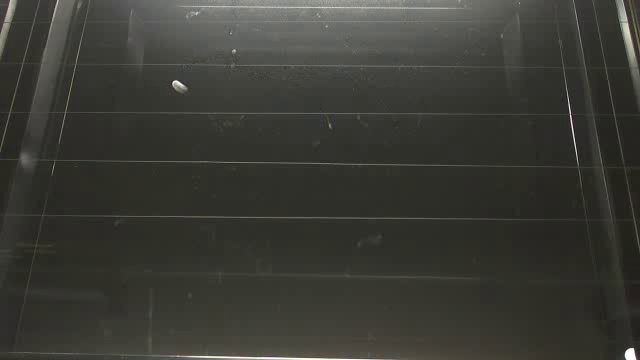Alfa: (169, 78, 190, 96)
